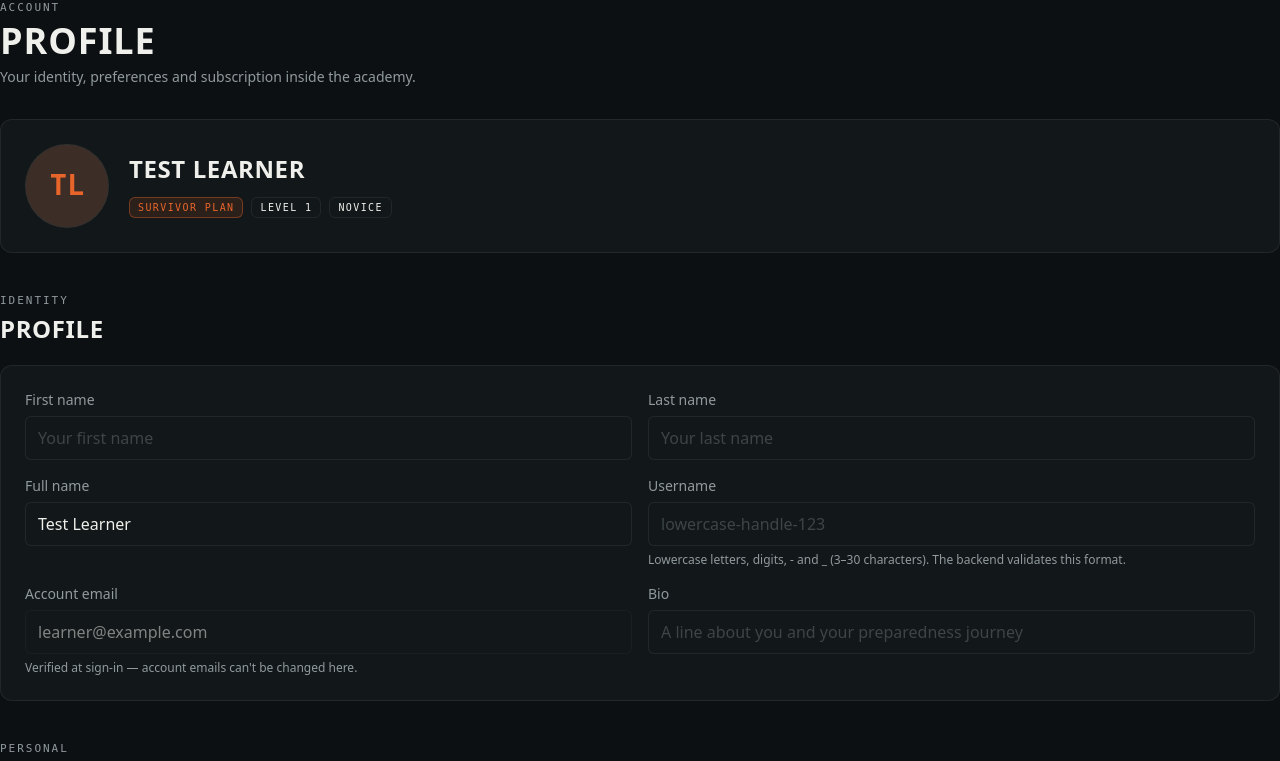
ProfilePage › edits safe fields via PATCH and reflects the saved profile
This screenshot has width=1280, height=761.
Replace the text in the field labelled "Full name" with "Field Ranger" at (328, 524), box [25,502,632,546]
(page scrolled)
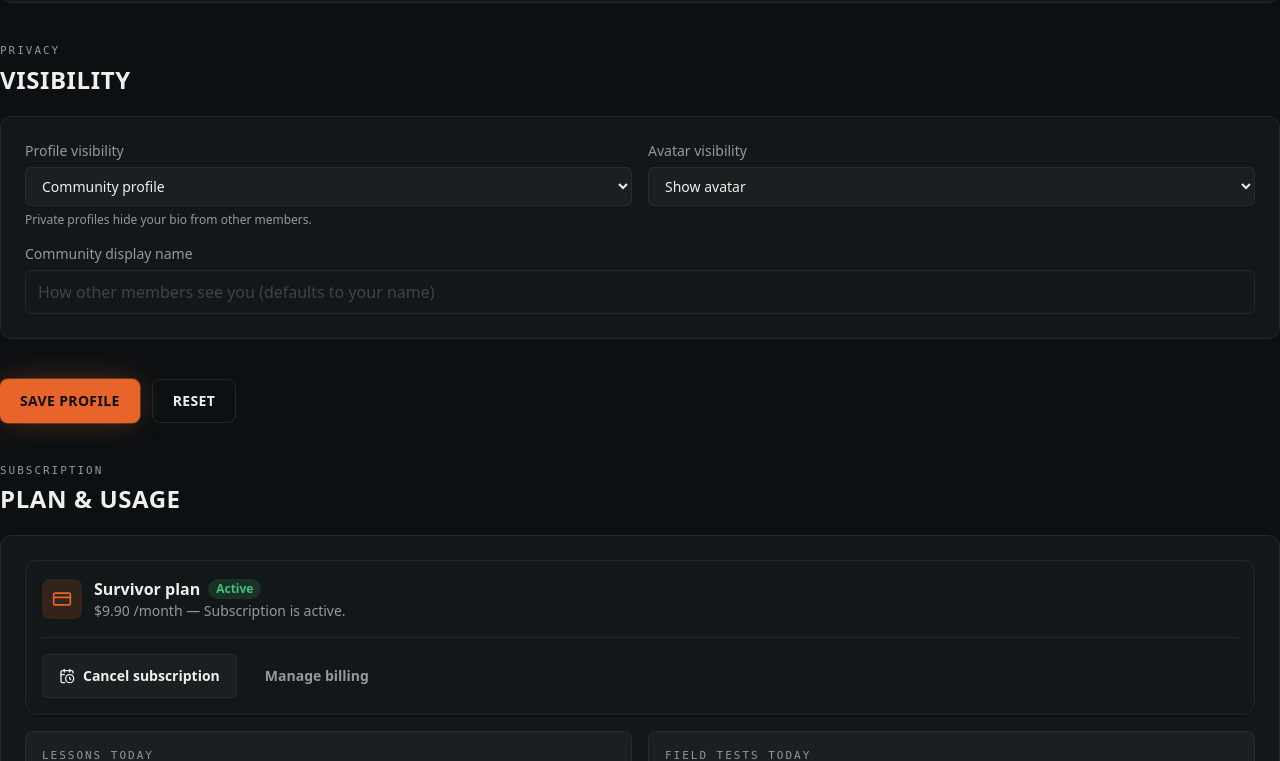
Click the button "Save profile".
click(70, 400)  # box [0,378,140,422]
(page scrolled)
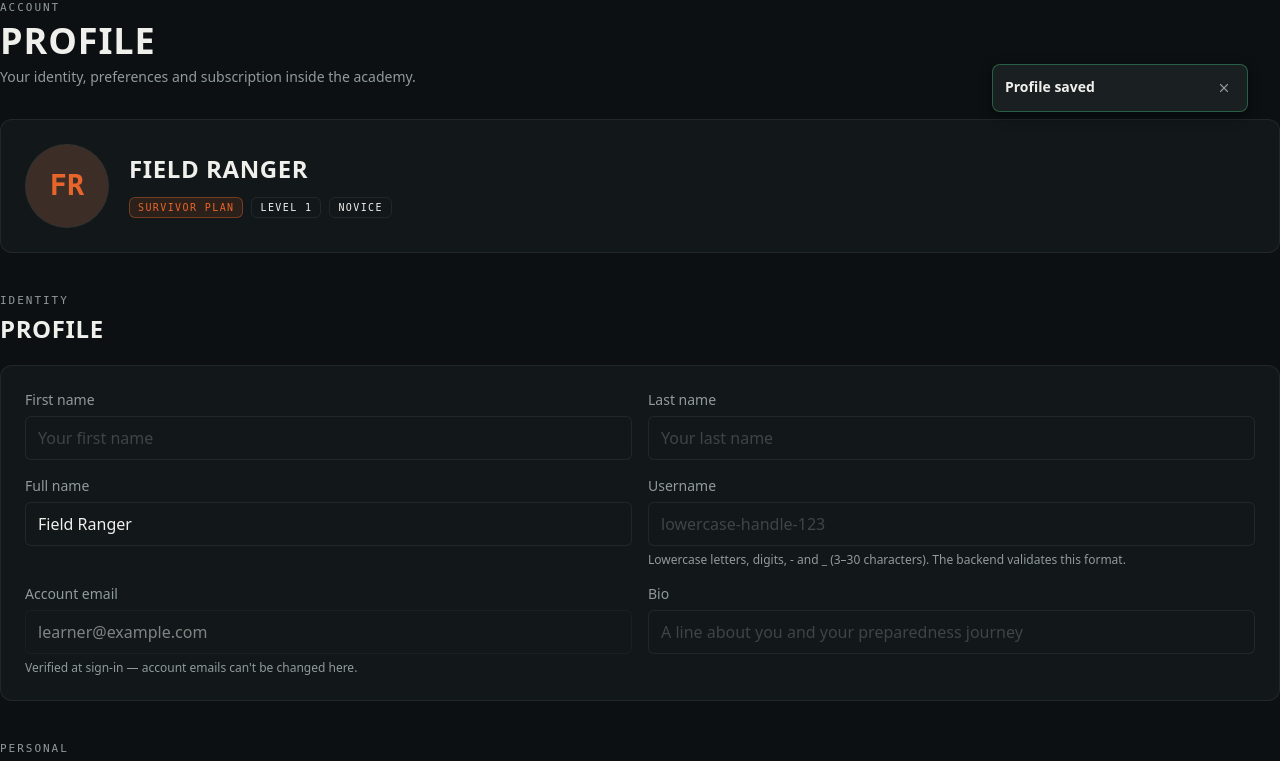
Check: the heading "Field Ranger" is shown, box [129,152,308,185]
